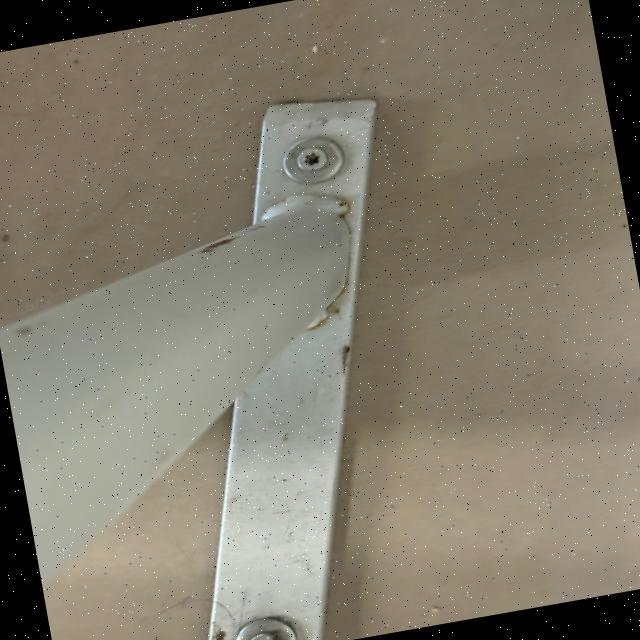Torx: (288, 140, 339, 180), (239, 624, 294, 640)
